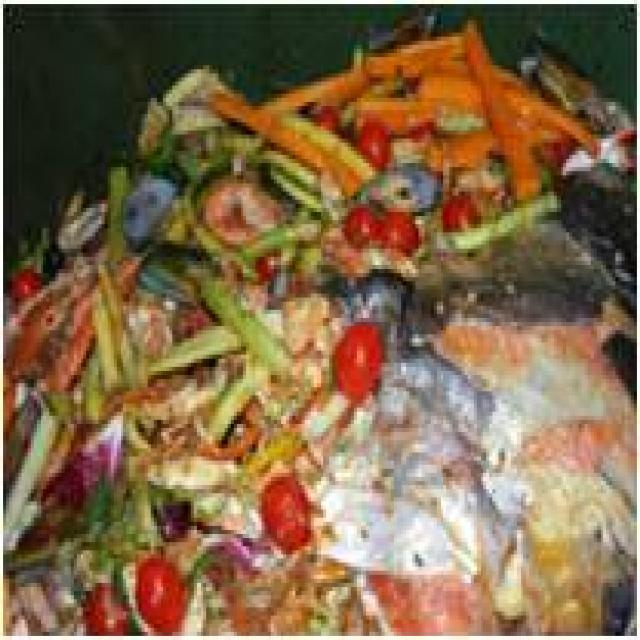food_waste: (41, 78, 619, 588)
